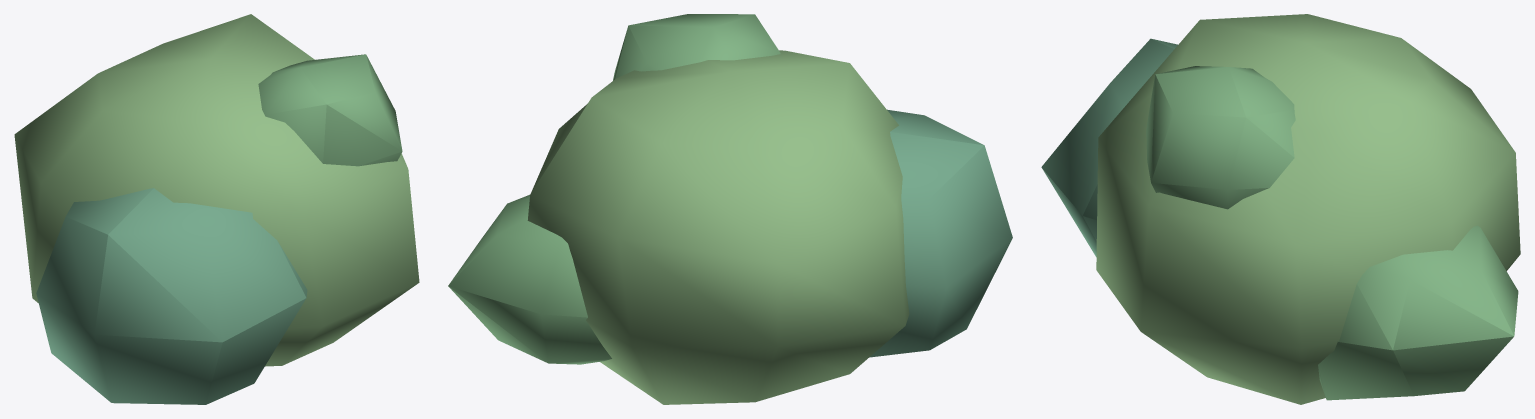
Rendered from bush_1.gltf.
The picture shows the model from 3 angles, left to right: view 1: azimuth 30°, elevation 25°; view 2: azimuth 150°, elevation 25°; view 3: azimuth 270°, elevation 25°; orthographic projection. The views are drawn at different scales.
Parts seen in each view (by area): view 1: bush_1; view 2: bush_1; view 3: bush_1.
Boxes of the visible parts, x1,y1,x2,y2 form: bush_1: (14,14,419,404); bush_1: (448,14,1012,404); bush_1: (1041,14,1520,404).
Size of the model in its own units: 2.17 by 1.59 by 2.07.
